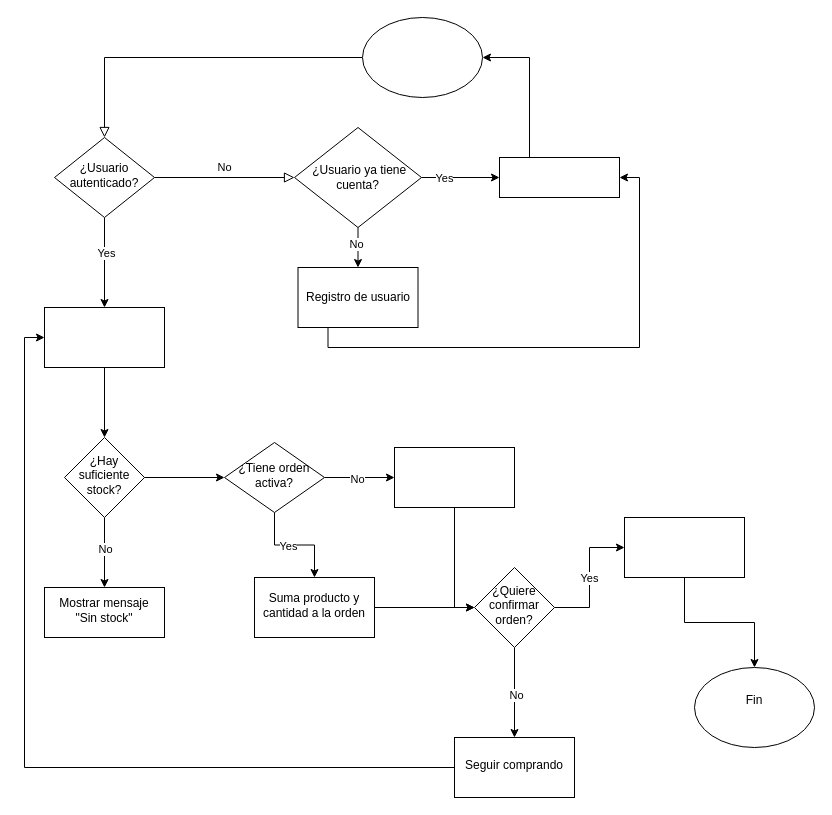
Image size: 832x815. Some labels were removed from this diagram. The shapes that lost their labels are listed below. From the top down, each one's box as (x1, y1, x2, y2) in pixels, then its label:
(362, 16, 482, 98): Inicio
(498, 156, 620, 198): Inicia sesión
(44, 306, 164, 368): Usuario selecciona producto y cantidad
(394, 446, 514, 508): Crea nueva orden y agrega producto
(624, 516, 744, 578): Cambia status a 'confirmed' y muestra mensaje éxito
